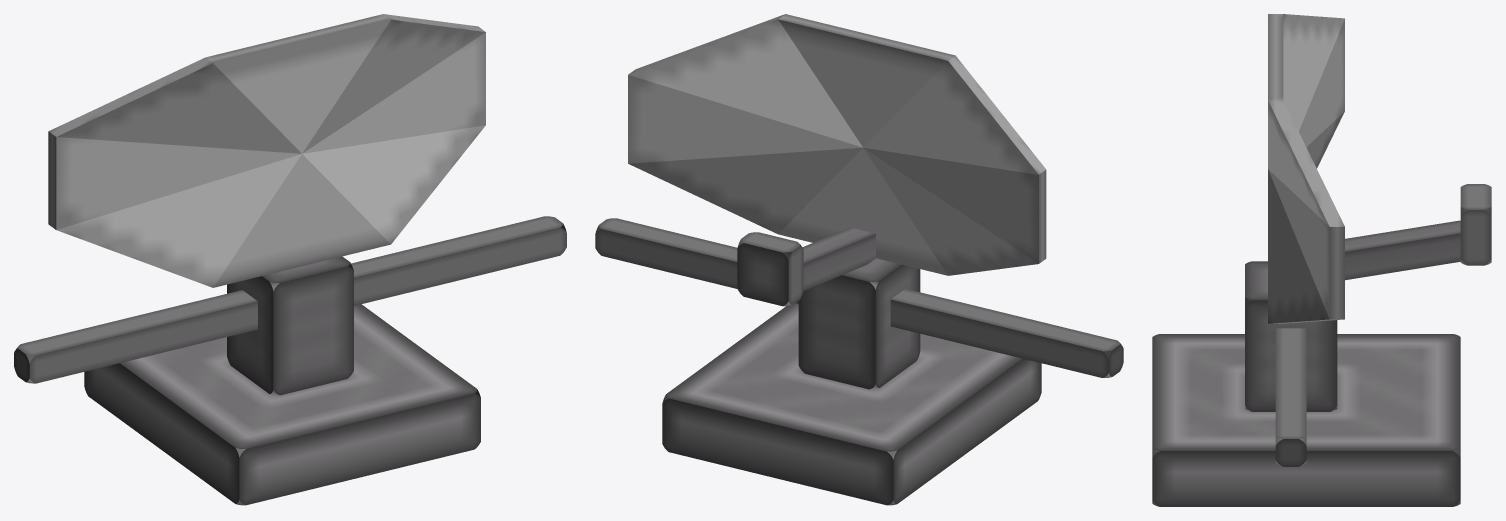
The model's file is radar1.obj.
3 views of the same model, side by side, from view 1: azimuth 30°, elevation 25°; view 2: azimuth 150°, elevation 25°; view 3: azimuth 270°, elevation 25° (orthographic). The views are drawn at different scales.
Visible parts, largest first — view 1: cylinder, cube4, cube3, cube2; view 2: cylinder, cube4, cube3, cube2, cube1, cube; view 3: cube4, cylinder, cube2, cube, cube3, cube1.
Part boxes in pixels (left/top/right/bottom): cylinder: left=48, top=14, right=485, bottom=287; cube4: left=84, top=304, right=480, bottom=505; cube3: left=14, top=216, right=566, bottom=383; cube2: left=227, top=256, right=353, bottom=395; cylinder: left=628, top=14, right=1046, bottom=275; cube4: left=662, top=303, right=1041, bottom=505; cube3: left=595, top=218, right=1123, bottom=377; cube2: left=798, top=258, right=920, bottom=389; cube1: left=737, top=232, right=803, bottom=306; cube: left=802, top=227, right=875, bottom=290; cube4: left=1152, top=334, right=1460, bottom=506; cylinder: left=1268, top=14, right=1344, bottom=323; cube2: left=1245, top=261, right=1337, bottom=411; cube: left=1345, top=220, right=1460, bottom=280; cube3: left=1275, top=328, right=1306, bottom=466; cube1: left=1460, top=184, right=1491, bottom=265.
Size of the model in its own units: 2.5 by 1.75 by 1.38.
